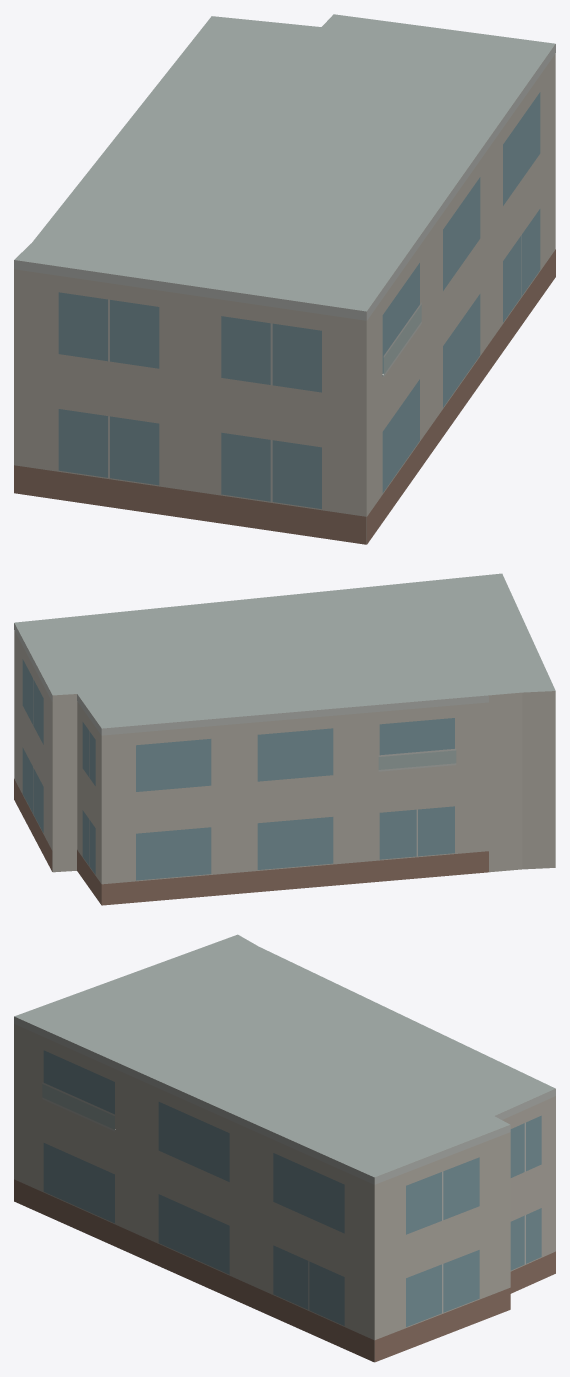
File: survey-upis-32642106.glb
The picture shows the model from 3 angles, top to bottom: view 1: azimuth 30°, elevation 25°; view 2: azimuth 150°, elevation 25°; view 3: azimuth 270°, elevation 25°; orthographic projection. The views are drawn at different scales.
Visible parts, largest first — view 1: survey-upis-32642106.tmp; view 2: survey-upis-32642106.tmp; view 3: survey-upis-32642106.tmp.
Part boxes in pixels (bbox=[...]): survey-upis-32642106.tmp: bbox=[14, 14, 555, 544]; survey-upis-32642106.tmp: bbox=[14, 573, 555, 905]; survey-upis-32642106.tmp: bbox=[14, 934, 555, 1362].
Bounding box in the file's own units: 17.2 × 6.1 × 16.2.
